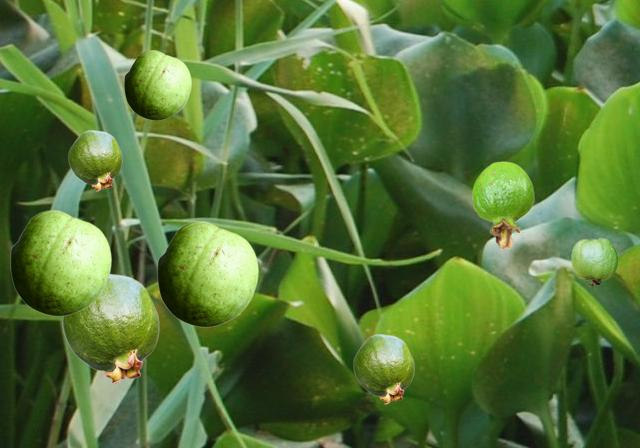guava: (62, 273, 158, 383), (10, 210, 110, 315), (157, 221, 257, 326), (472, 161, 533, 248), (124, 50, 190, 119), (353, 334, 413, 403), (68, 130, 121, 190), (571, 238, 617, 285)
